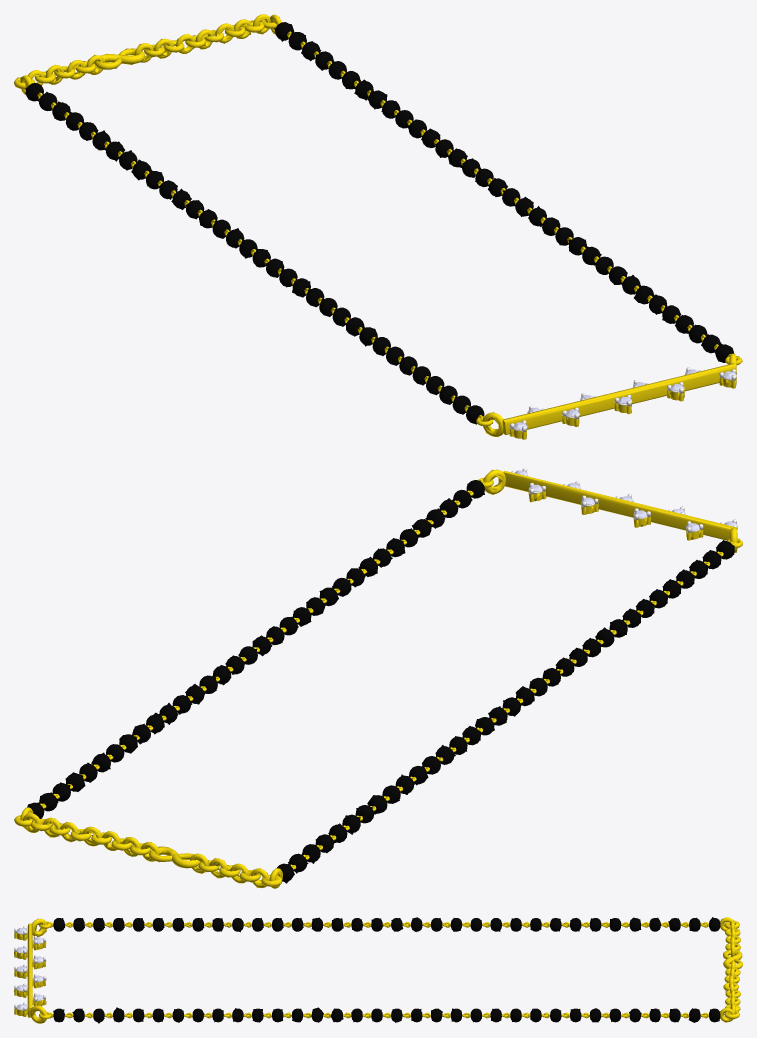
Rendered from DPN-D000673514.glb.
3 renders of one model, top to bottom at view 1: azimuth 30°, elevation 25°; view 2: azimuth 150°, elevation 25°; view 3: azimuth 270°, elevation 25°, orthographic. The views are drawn at different scales.
Parts seen in each view (by area): view 1: highPolyMesh, lowPolyMesh; view 2: highPolyMesh, lowPolyMesh; view 3: highPolyMesh, lowPolyMesh.
Boxes of the visible parts, <box> form: highPolyMesh: <box>14,14,742,439</box>; lowPolyMesh: <box>14,15,742,439</box>; highPolyMesh: <box>14,468,742,888</box>; lowPolyMesh: <box>14,469,742,887</box>; highPolyMesh: <box>14,917,742,1023</box>; lowPolyMesh: <box>14,917,742,1023</box>.
Size of the model in its own units: 0.0348 by 0.00301 by 0.1108.
